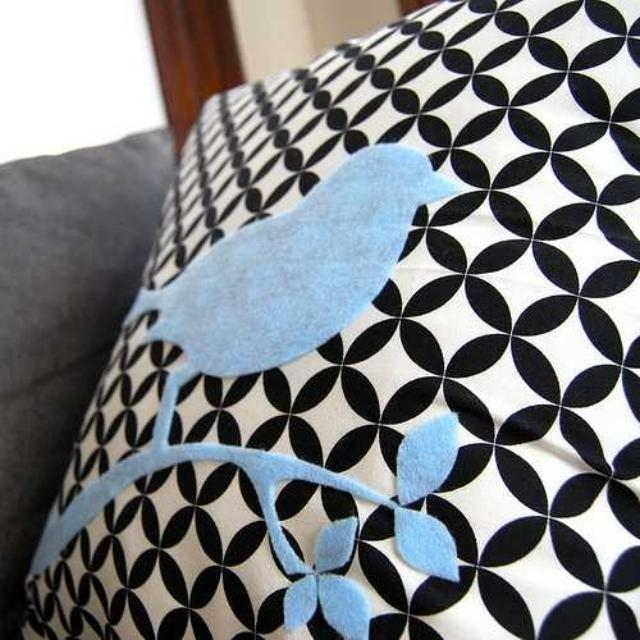pillow: (17, 0, 639, 638)
